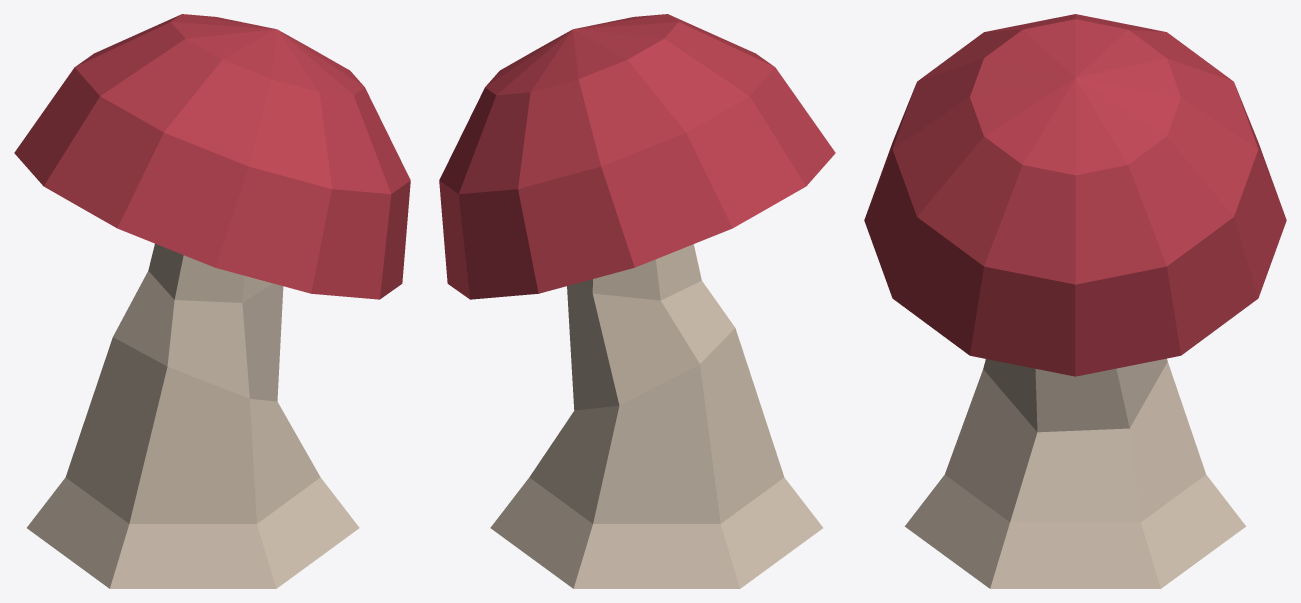
File: mushroom1.fbx
The picture shows the model from 3 angles, left to right: view 1: azimuth 30°, elevation 25°; view 2: azimuth 150°, elevation 25°; view 3: azimuth 270°, elevation 25°; orthographic projection. The views are drawn at different scales.
Parts seen in each view (by area): view 1: Cylinder; view 2: Cylinder; view 3: Cylinder.
Boxes of the visible parts, x1,y1,x2,y2 form: Cylinder: (14,14,410,588); Cylinder: (439,14,835,588); Cylinder: (864,14,1286,588).
Bounding box in the file's own units: 37.15 × 51.03 × 38.81.
